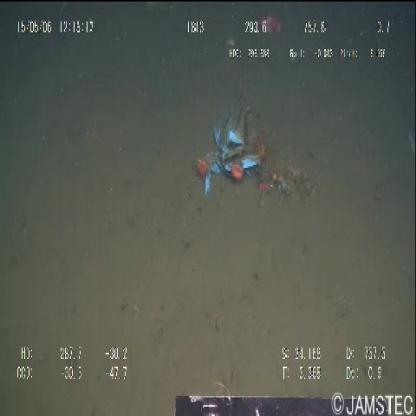Rác: (203, 103, 267, 200)
